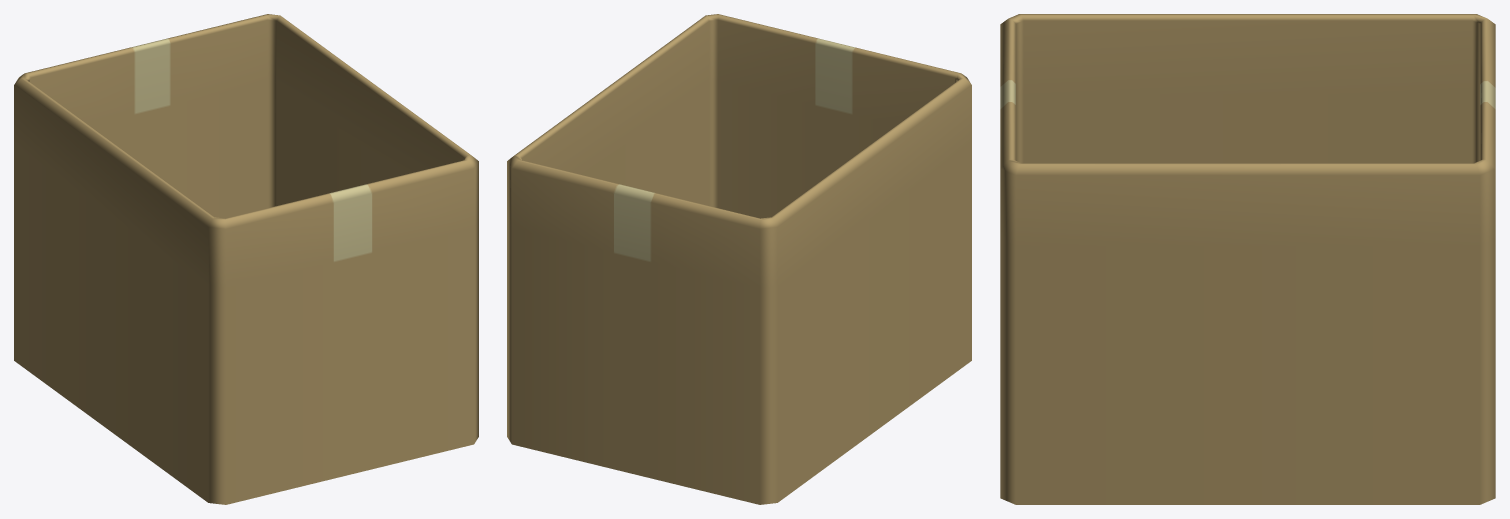
The model's file is Doos_Noflap.fbx.
3 views of the same model, side by side, from view 1: azimuth 30°, elevation 25°; view 2: azimuth 150°, elevation 25°; view 3: azimuth 270°, elevation 25° (orthographic). The views are drawn at different scales.
Parts seen in each view (by area): view 1: Doos_NoFlap; view 2: Doos_NoFlap; view 3: Doos_NoFlap.
Boxes of the visible parts, x1=… form: Doos_NoFlap: x1=14, y1=14, x2=478, y2=504; Doos_NoFlap: x1=507, y1=14, x2=971, y2=504; Doos_NoFlap: x1=1000, y1=14, x2=1495, y2=504.
Size of the model in its own units: 28.84 by 28.71 by 38.26.
Materials: 1 (1 with a texture image).
